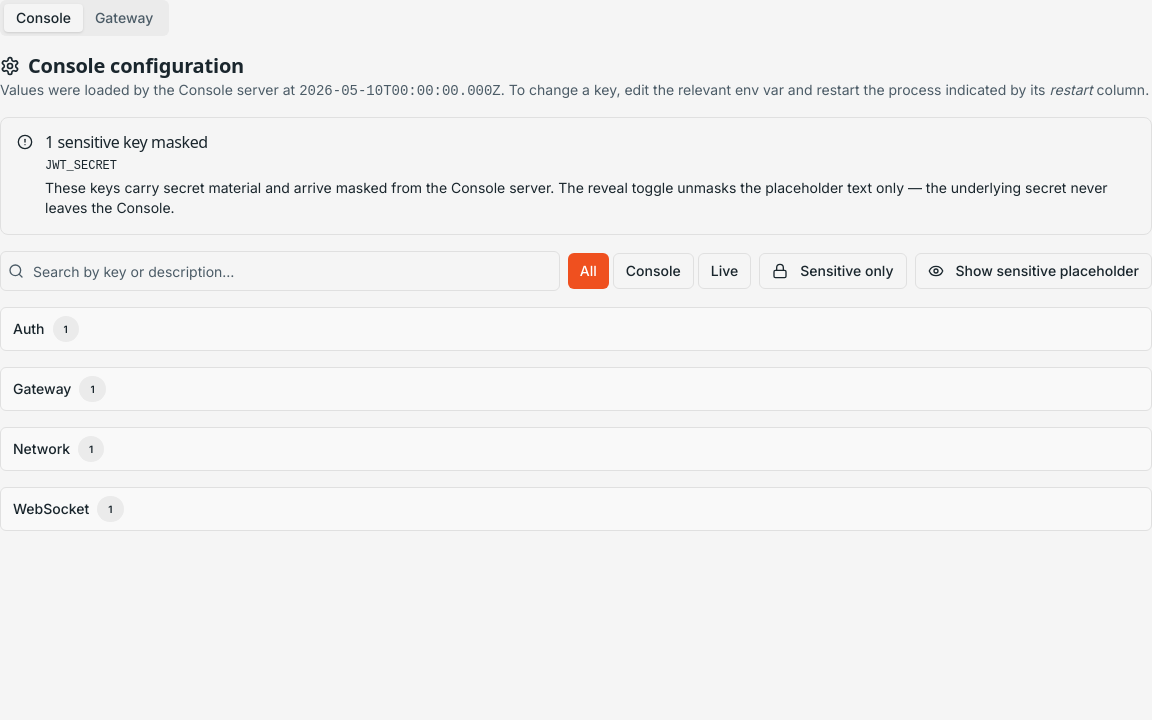
SystemConfigPage — Gateway tab › clears ?tab from the URL when switching back to Console
The width and height of the screenshot is (1152, 720).
Click the tab "Gateway": (124, 18) [83, 4, 165, 32]
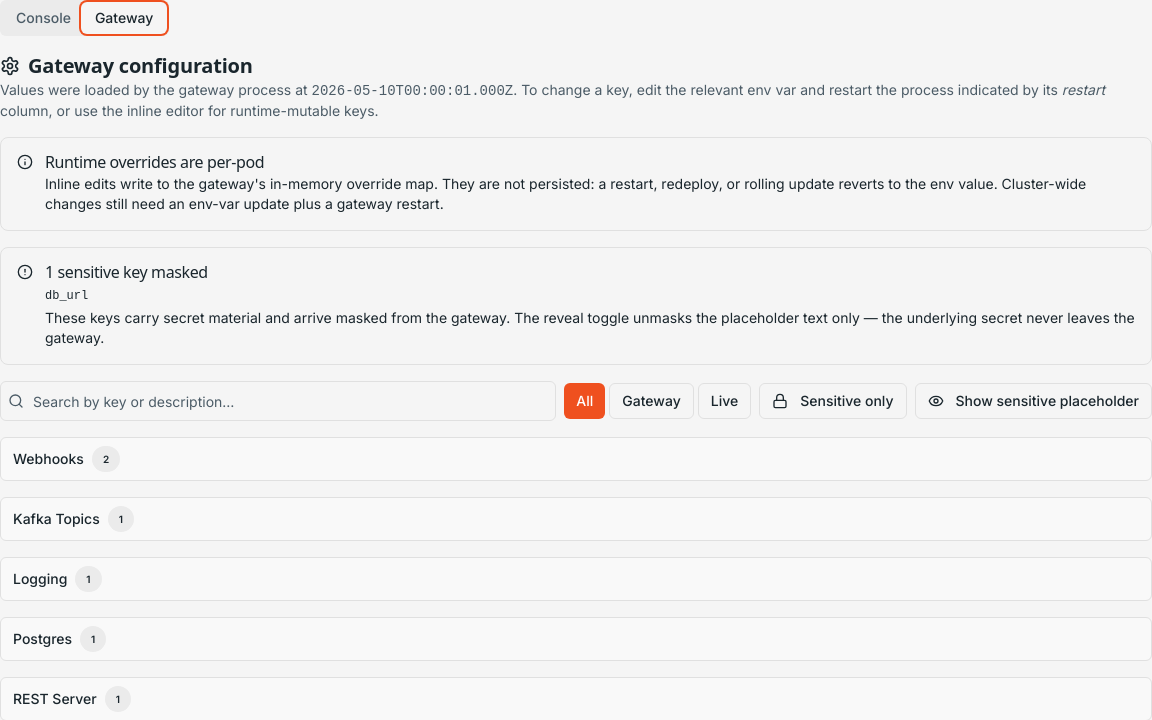
Now the heading "Gateway configuration" is shown, box [0, 52, 253, 79]
Click the tab "Console": (43, 18) [4, 4, 83, 32]
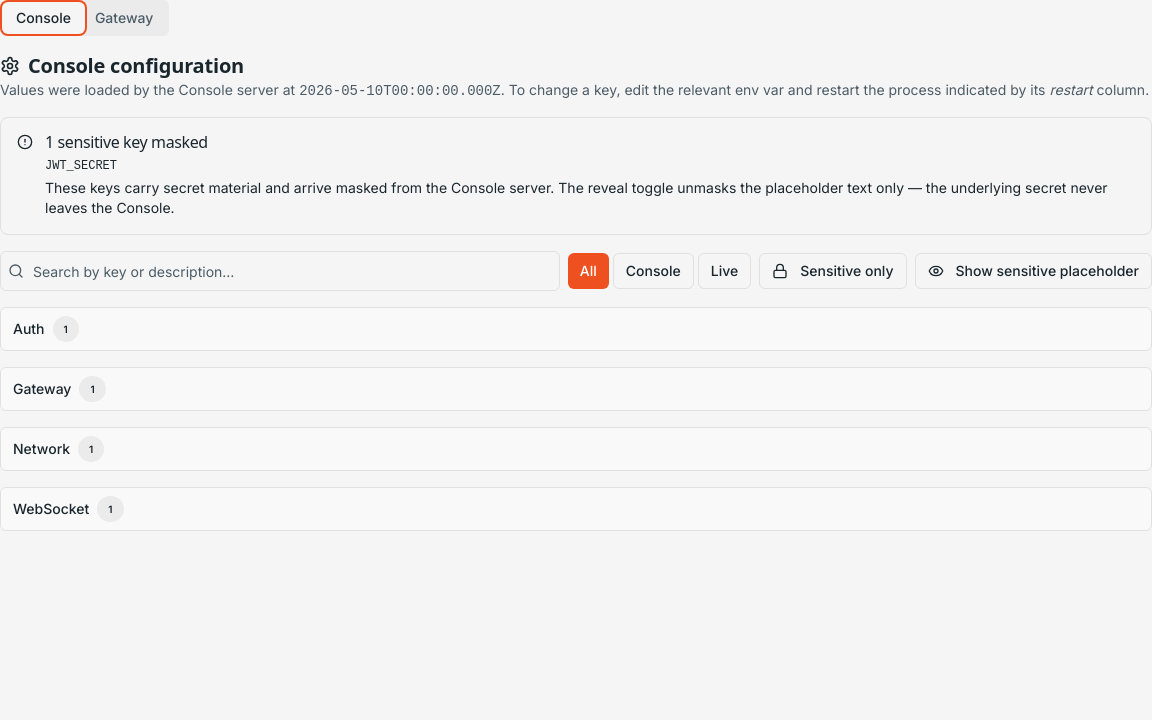
Now the heading "Console configuration" is shown, box [0, 52, 244, 79]
